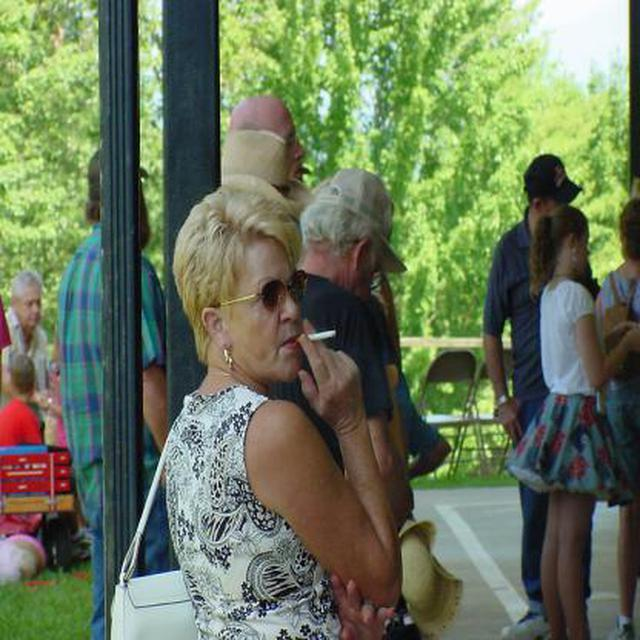smoking: (296, 331, 336, 342)
